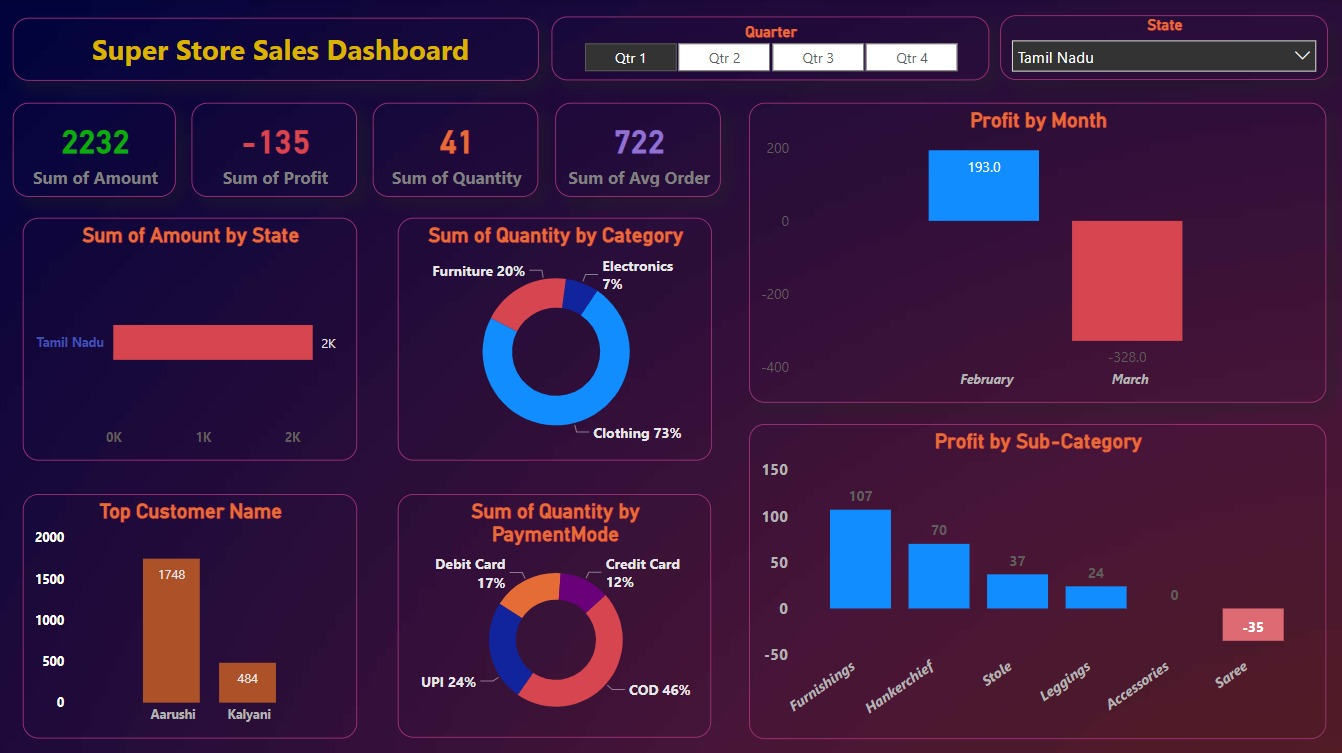

Layout of this report page (visuals, bound fields, positions):
{"tool":"powerbi","page":{"name":"Page 1","canvas":[1280,720],"ordinal":0},"visuals":[{"type":"textbox","box":[13.5,17.4,500.9,60.4],"z":0,"group":"g1"},{"type":"columnChart","title":"Profit by Month","fields":{"Category":["Orders.Order Date.Variation.Date Hierarchy.Month"],"Y":["Sum(Details.Profit)"]},"box":[714,98.8,549.8,285.6],"z":1000,"group":"g1"},{"type":"columnChart","title":"Profit by Sub-Category","fields":{"Category":["Details.Sub-Category"],"Y":["Sum(Details.Profit)"]},"box":[714,404.1,549.5,300.4],"z":2000,"group":"g1"},{"type":"donutChart","fields":{"Category":["Details.Category"],"Y":["Sum(Details.Quantity)"]},"box":[379.1,208.6,299.2,231.3],"z":3000,"group":"g1"},{"type":"donutChart","fields":{"Y":["Sum(Details.Quantity)"],"Category":["Details.PaymentMode"]},"box":[379.6,471.3,298.7,232.1],"z":4000,"group":"g1"},{"type":"card","fields":{"Values":["Sum(Details.Amount)"]},"box":[13.1,98.9,155,89.4],"z":5000,"group":"g1"},{"type":"card","fields":{"Values":["Sum(Details.Profit)"]},"box":[183.6,98.9,157.3,89.4],"z":6000,"group":"g1"},{"type":"card","fields":{"Values":["Sum(Details.Quantity)"]},"box":[356.4,98.9,157.3,89.4],"z":7000,"group":"g1"},{"type":"card","fields":{"Values":["Sum(Details.Avg Order)"]},"box":[529.2,98.9,157.3,89.4],"z":8000,"group":"g1"},{"type":"clusteredBarChart","fields":{"Category":["Orders.State"],"Y":["Sum(Details.Amount)"]},"box":[22.6,208.6,318.3,231.3],"z":9000,"group":"g1"},{"type":"columnChart","title":"Top Customer Name","fields":{"Category":["Orders.CustomerName"],"Y":["Sum(Details.Amount)"]},"box":[22.6,470.9,318.3,232.4],"z":10000,"group":"g1"},{"type":"slicer","title":"Quarter","fields":{"Values":["Orders.Order Date.Variation.Date Hierarchy.Quarter"]},"box":[525.6,17.1,416.5,60.7],"z":11000,"group":"g1"},{"type":"slicer","title":"State","fields":{"Values":["Orders.State"]},"box":[953.4,15.5,311.8,61.9],"z":13000,"group":"g1"},{"type":"group","id":"g1","title":"Group 1","box":[13.1,15.5,1252,689.1],"z":13001}]}

Visuals, with their boxes in screenshot pixels (x1, y1, x2, y2), scaled from the page's 1280x720 canvas onto the 1342x753 screenshot:
textbox: Rect(14, 18, 539, 81)
"Profit by Month" columnChart: Rect(749, 103, 1325, 402)
"Profit by Sub-Category" columnChart: Rect(749, 423, 1325, 737)
donutChart - Details.Category x Sum(Details.Quantity): Rect(397, 218, 711, 460)
donutChart - Sum(Details.Quantity) x Details.PaymentMode: Rect(398, 493, 711, 736)
card - Sum(Details.Amount): Rect(14, 103, 176, 197)
card - Sum(Details.Profit): Rect(192, 103, 357, 197)
card - Sum(Details.Quantity): Rect(374, 103, 539, 197)
card - Sum(Details.Avg Order): Rect(555, 103, 720, 197)
clusteredBarChart - Orders.State x Sum(Details.Amount): Rect(24, 218, 357, 460)
"Top Customer Name" columnChart: Rect(24, 492, 357, 736)
"Quarter" slicer: Rect(551, 18, 988, 81)
"State" slicer: Rect(1000, 16, 1326, 81)
"Group 1" group: Rect(14, 16, 1326, 737)
